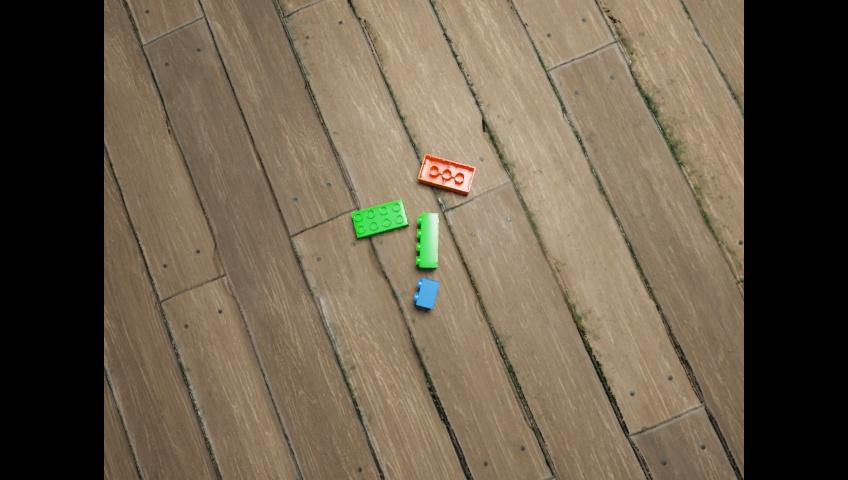2x2_blue: (413, 277, 438, 308)
4x2_green: (351, 199, 408, 237), (416, 212, 437, 267)
4x2_orange: (418, 153, 474, 194)
